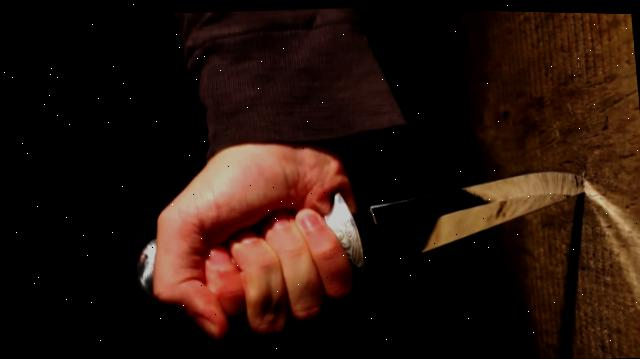pocket-knife: (218, 150, 613, 351)
